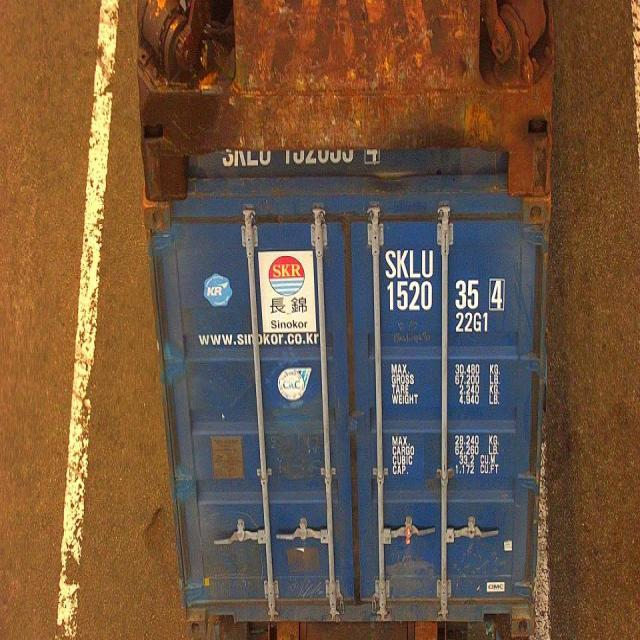ISO: (455, 312, 490, 332)
container_number: (386, 250, 514, 308)
